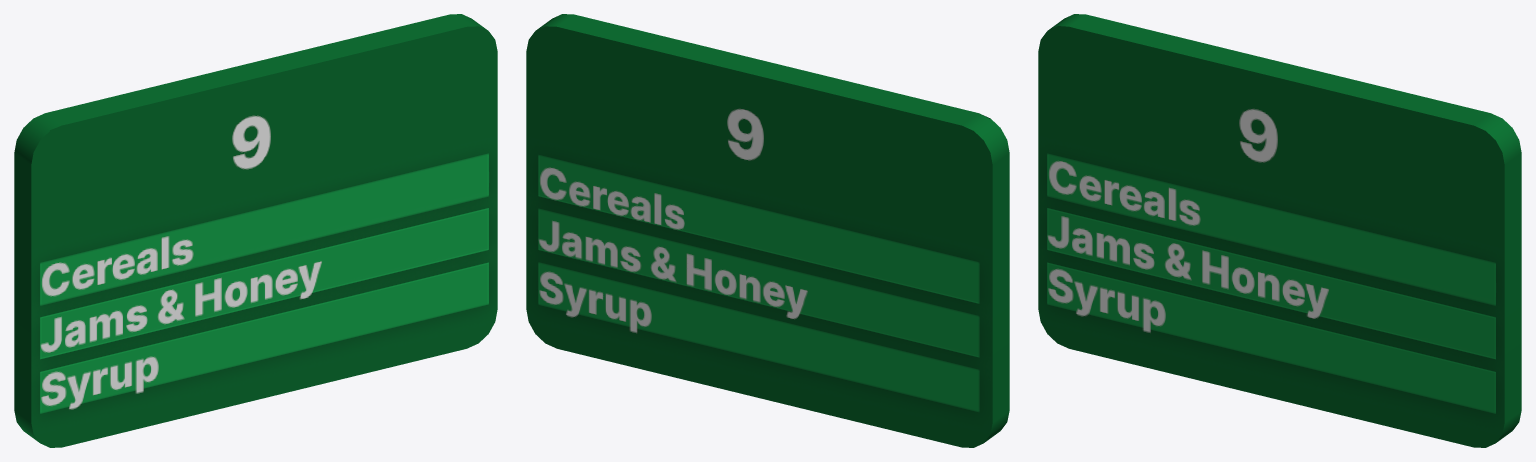
File: aisle9.fbx
3 renders of one model, left to right at view 1: azimuth 30°, elevation 25°; view 2: azimuth 150°, elevation 25°; view 3: azimuth 330°, elevation 25°, orthographic.
Visible parts, largest first — view 1: pCube1; view 2: pCube1; view 3: pCube1.
Part boxes in pixels (box(x1,y1,x2,y2)): pCube1: box(14, 14, 497, 447); pCube1: box(526, 14, 1009, 447); pCube1: box(1038, 14, 1521, 447).
Bounding box in the file's own units: 15.9 × 10.49 × 1.
